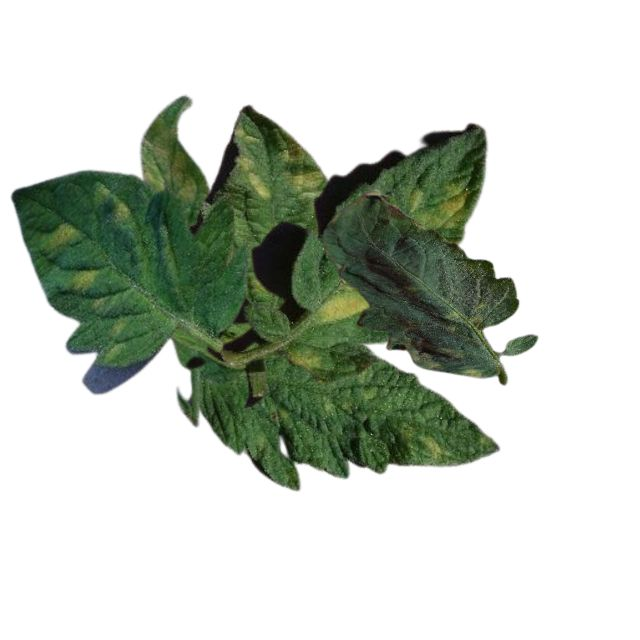Leaf_Mold: (139, 96, 200, 201), (393, 322, 500, 379), (405, 173, 478, 232), (232, 123, 273, 201), (273, 137, 325, 198), (396, 423, 443, 466), (91, 181, 135, 226), (316, 291, 369, 321), (41, 219, 76, 254), (284, 340, 324, 370), (73, 268, 99, 296)
